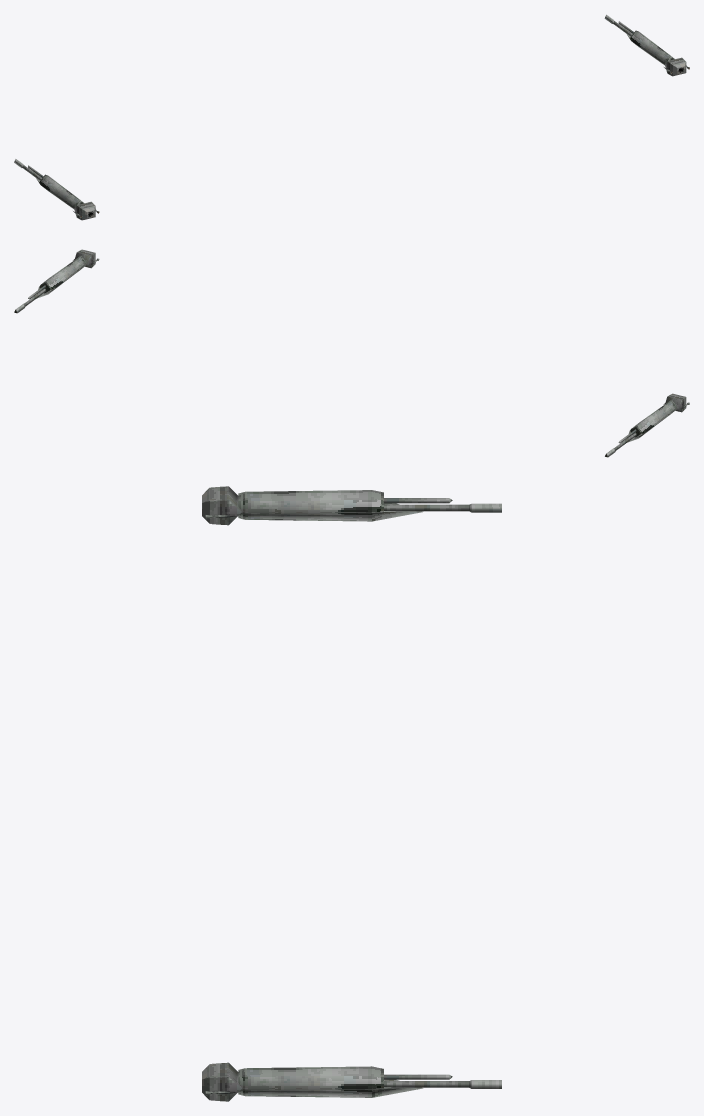
The model's file is hutt_fighter_heavy_weapon2_s03_l2.fbx.
3 views of the same model, one above another, from view 1: azimuth 30°, elevation 25°; view 2: azimuth 150°, elevation 25°; view 3: azimuth 270°, elevation 25° (orthographic). The views are drawn at different scales.
Visible parts, largest first — view 1: mesh_node; view 2: mesh_node; view 3: mesh_node.
Part boxes in pixels (bbox=[...]): mesh_node: bbox=[14, 14, 689, 220]; mesh_node: bbox=[14, 249, 689, 457]; mesh_node: bbox=[202, 486, 501, 1101].
Bounding box in the file's own units: 26.76 × 0.6605 × 5.7.
